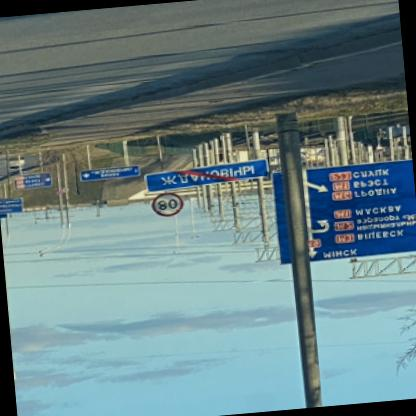speedlimit: (146, 192, 184, 221)
